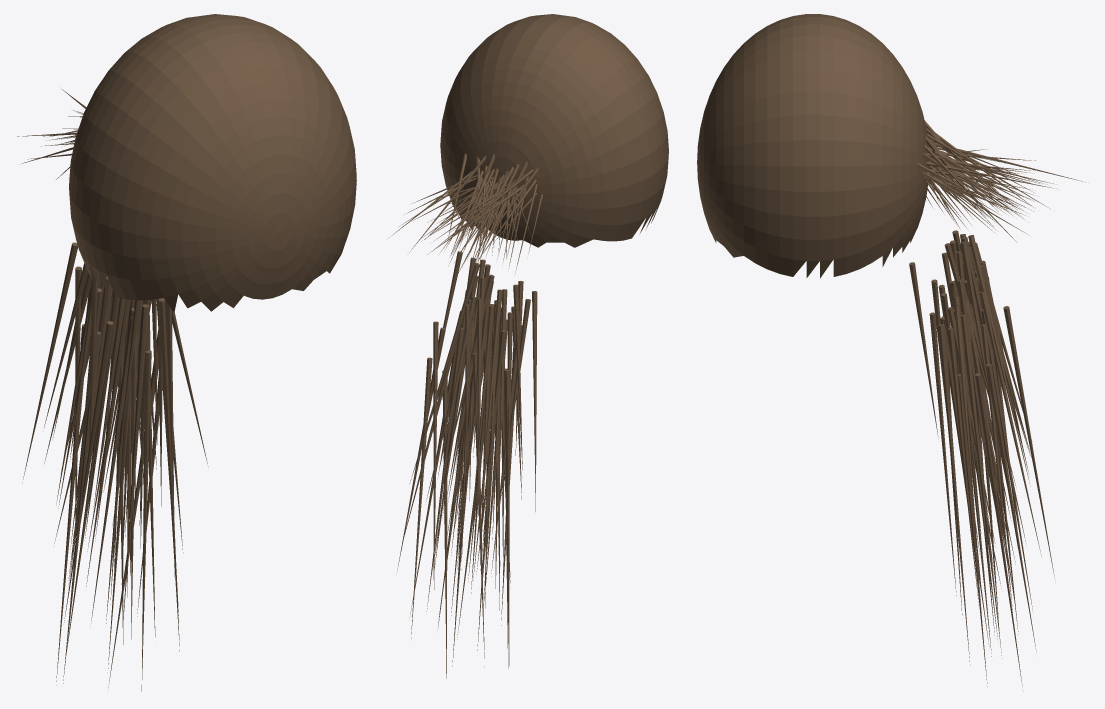
File: classic_ponytail.glb
The picture shows the model from 3 angles, left to right: view 1: azimuth 30°, elevation 25°; view 2: azimuth 150°, elevation 25°; view 3: azimuth 270°, elevation 25°; orthographic projection. The views are drawn at different scales.
Parts seen in each view (by area): view 1: part_000, part_122, part_161, part_140, part_144, part_100, part_162, part_105, part_128, part_102, part_130, part_160 (+18 smaller); view 2: part_000, part_113, part_135, part_100, part_148, part_129, part_101, part_102, part_124, part_145, part_163, part_155 (+19 smaller); view 3: part_000, part_091, part_122, part_129, part_135, part_140, part_113, part_141, part_161, part_099, part_117, part_148 (+6 smaller).
Part boxes in pixels (x1,y1,x2,y2): part_000: (69, 14, 356, 312); part_122: (158, 298, 179, 651); part_161: (141, 350, 151, 691); part_140: (122, 304, 148, 627); part_144: (64, 321, 113, 622); part_100: (56, 324, 85, 685); part_162: (63, 331, 101, 683); part_105: (90, 308, 134, 625); part_128: (86, 299, 130, 585); part_102: (22, 242, 77, 482); part_130: (108, 316, 133, 668); part_160: (131, 308, 137, 639); part_000: (440, 14, 668, 247); part_113: (433, 321, 438, 589); part_135: (411, 357, 432, 638); part_100: (504, 369, 509, 665); part_148: (426, 327, 464, 611); part_129: (442, 371, 447, 678); part_101: (472, 353, 484, 666); part_102: (532, 291, 537, 511); part_124: (476, 330, 506, 574); part_145: (477, 298, 482, 515); part_163: (507, 312, 512, 526); part_155: (410, 263, 479, 480); part_000: (697, 14, 928, 278); part_091: (961, 314, 1002, 658); part_122: (938, 324, 970, 665); part_129: (975, 373, 1023, 691); part_135: (985, 363, 1036, 652); part_140: (929, 312, 956, 595); part_113: (1003, 306, 1055, 580); part_141: (948, 327, 978, 601); part_161: (958, 374, 987, 686); part_099: (979, 291, 1041, 556); part_117: (981, 324, 1012, 612); part_148: (981, 309, 1033, 612).
Size of the model in its own units: 0.2096 by 0.599 by 0.3219.
